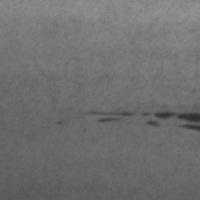inclusion: (77, 106, 199, 136)
